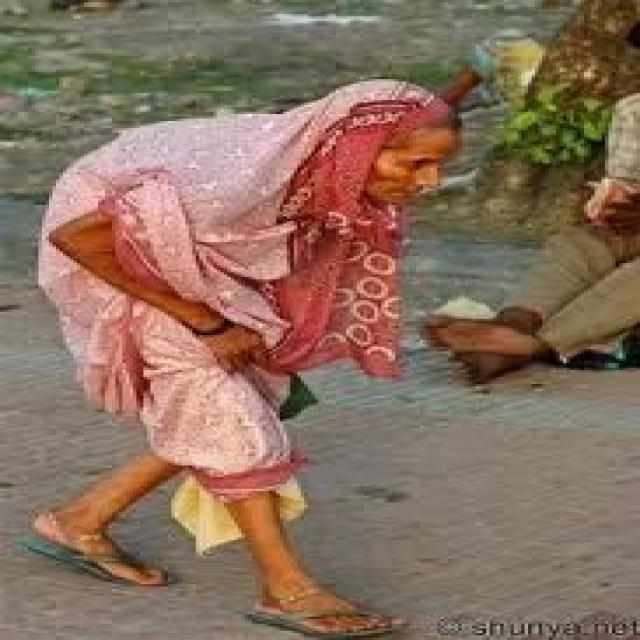idoso em pe: (38, 72, 430, 640)
